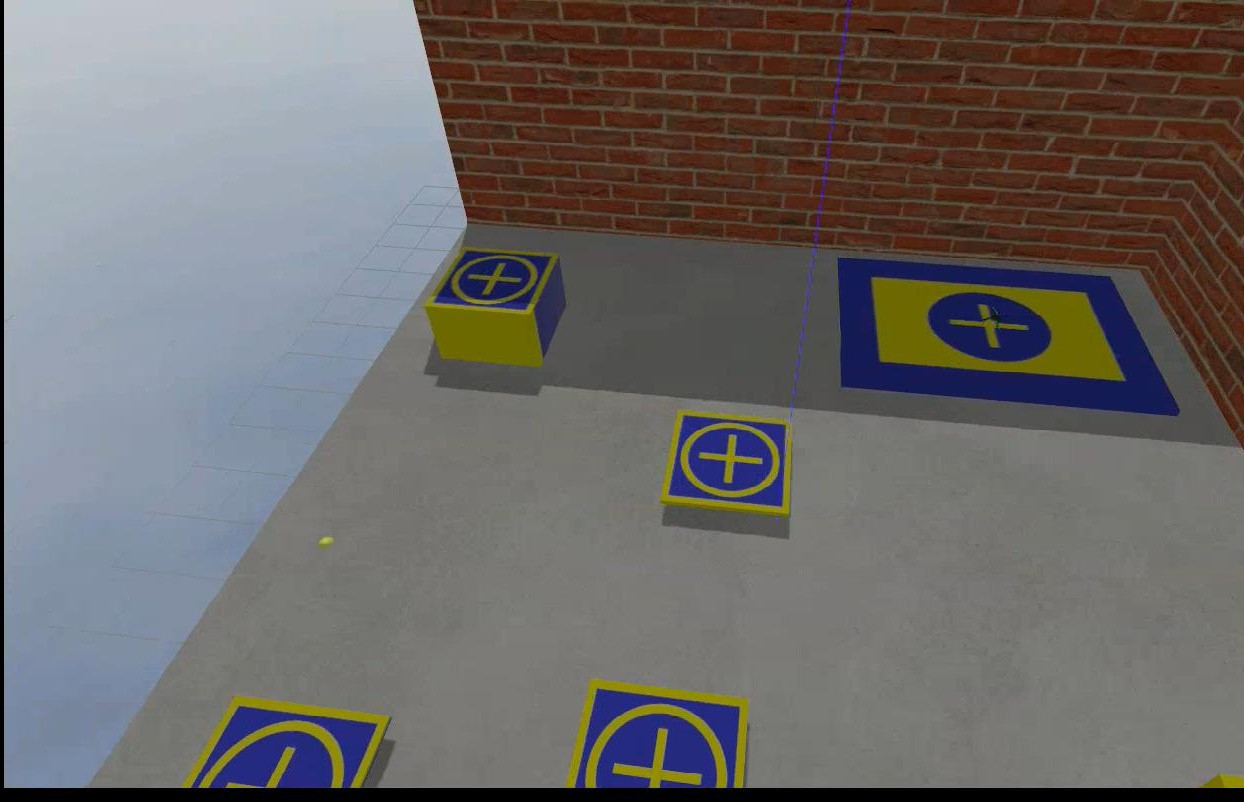large_base: (832, 261, 1184, 420)
small_base: (564, 679, 748, 788), (179, 693, 389, 787), (656, 408, 791, 519), (419, 252, 553, 319)
